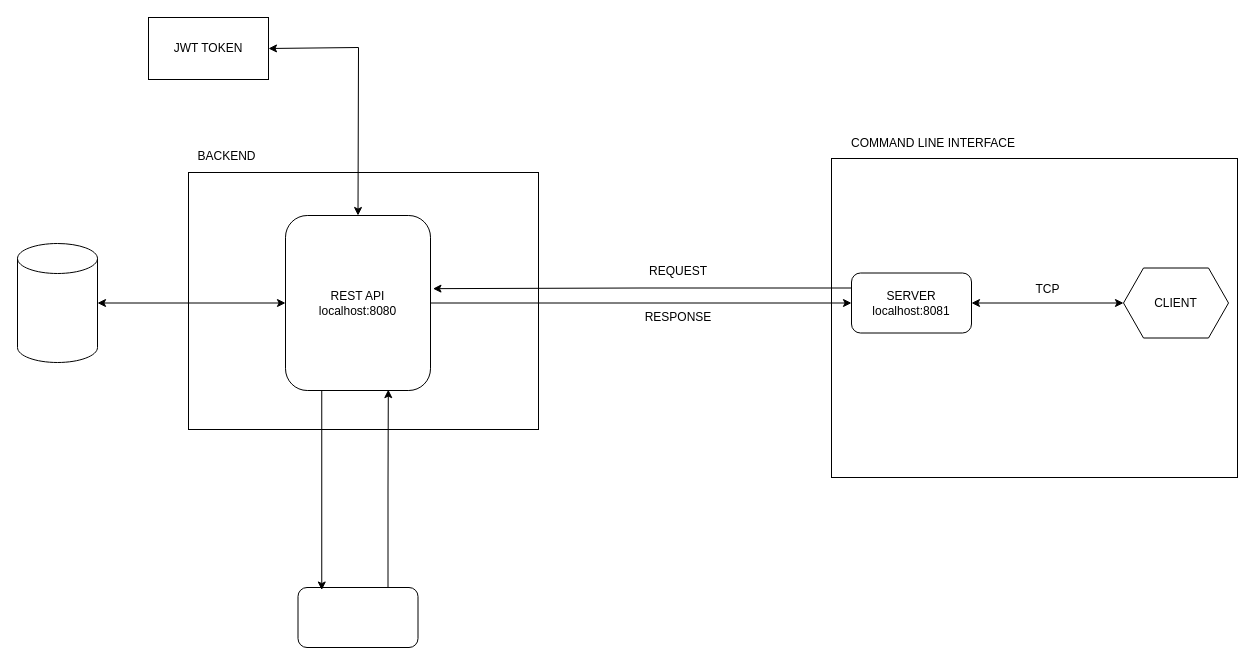
Image size: 1255x665. Some labels were removed from this diagram. Each missing label, with the box of its shape:
DATABASE SERVER: (16, 242, 98, 362)
FRONT END: (297, 586, 418, 648)
